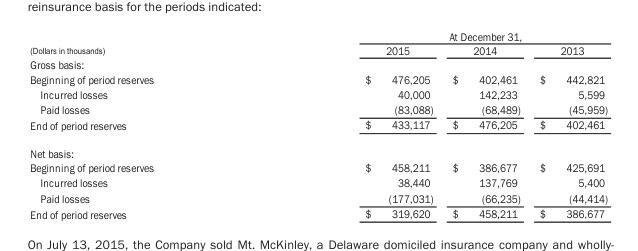table: (29, 29, 607, 220)
table column: (29, 29, 258, 220), (258, 29, 442, 220), (442, 29, 529, 220), (529, 29, 607, 220)
table column header: (29, 29, 607, 57)
table projected row header: (29, 139, 607, 160), (29, 57, 607, 71)
table row: (29, 116, 607, 139), (29, 139, 607, 160), (29, 174, 607, 190), (29, 42, 607, 57), (29, 71, 607, 86), (29, 86, 607, 101), (29, 101, 607, 116), (29, 190, 607, 205), (29, 205, 607, 220), (29, 57, 607, 71), (29, 160, 607, 174), (29, 29, 607, 42)
table spanning cell: (29, 29, 258, 57), (258, 29, 607, 42)
